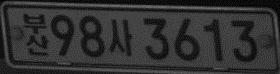1: (202, 18, 227, 61)
3: (142, 17, 170, 60), (230, 19, 258, 62)
6: (174, 17, 200, 61)
8: (79, 14, 105, 57)
9: (50, 14, 75, 56)
부산_V: (23, 12, 49, 56)
사: (107, 18, 135, 55)
